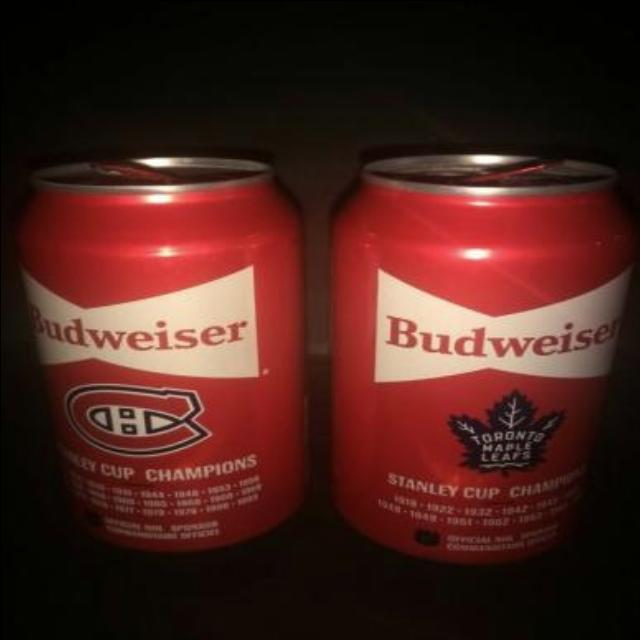metal: (330, 152, 630, 559), (16, 155, 300, 546)
